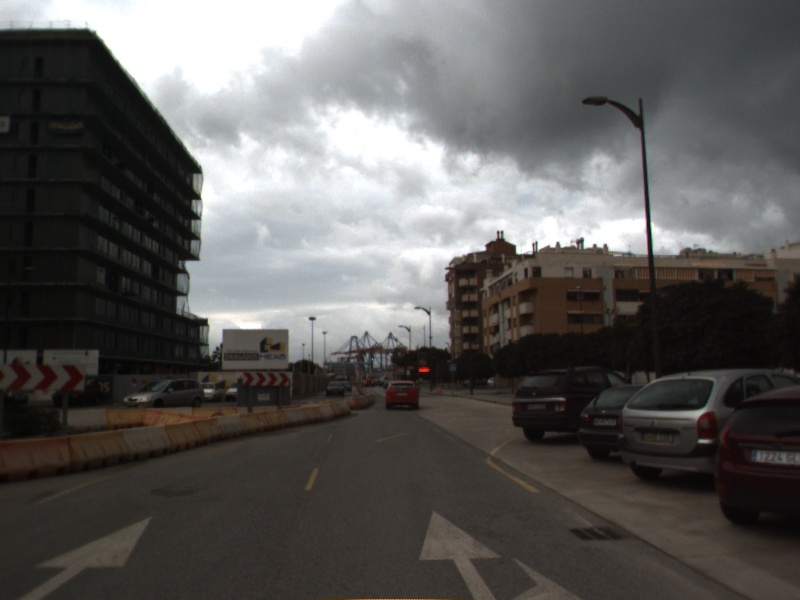STRAIGHT: (14, 511, 156, 600)
STRAIGHT_RIGHT: (415, 507, 587, 600)
